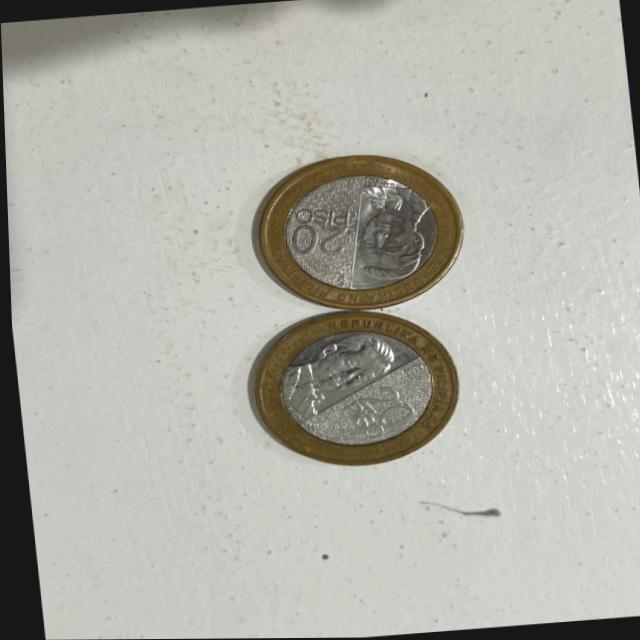20_New_Front: (353, 381, 408, 431), (286, 222, 345, 258)
